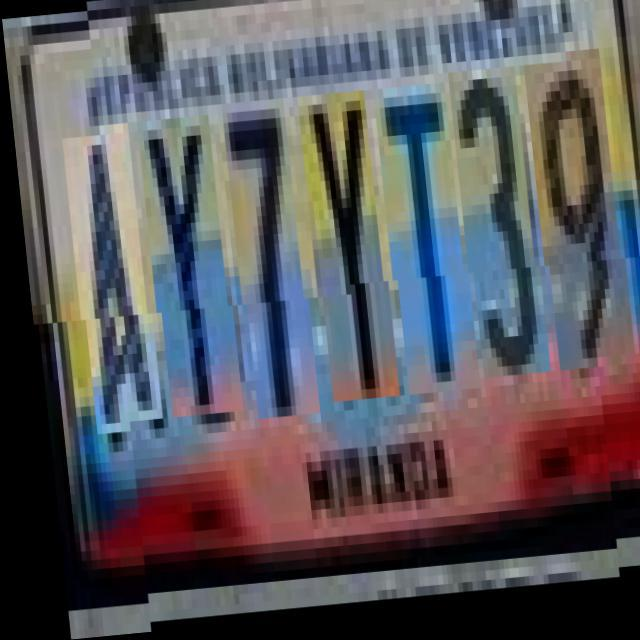3: (451, 76, 542, 387)
7: (224, 104, 310, 424)
9: (526, 70, 627, 381)
A: (63, 125, 154, 426)
T: (375, 91, 471, 402)
Y: (139, 119, 234, 420), (300, 97, 390, 408)
